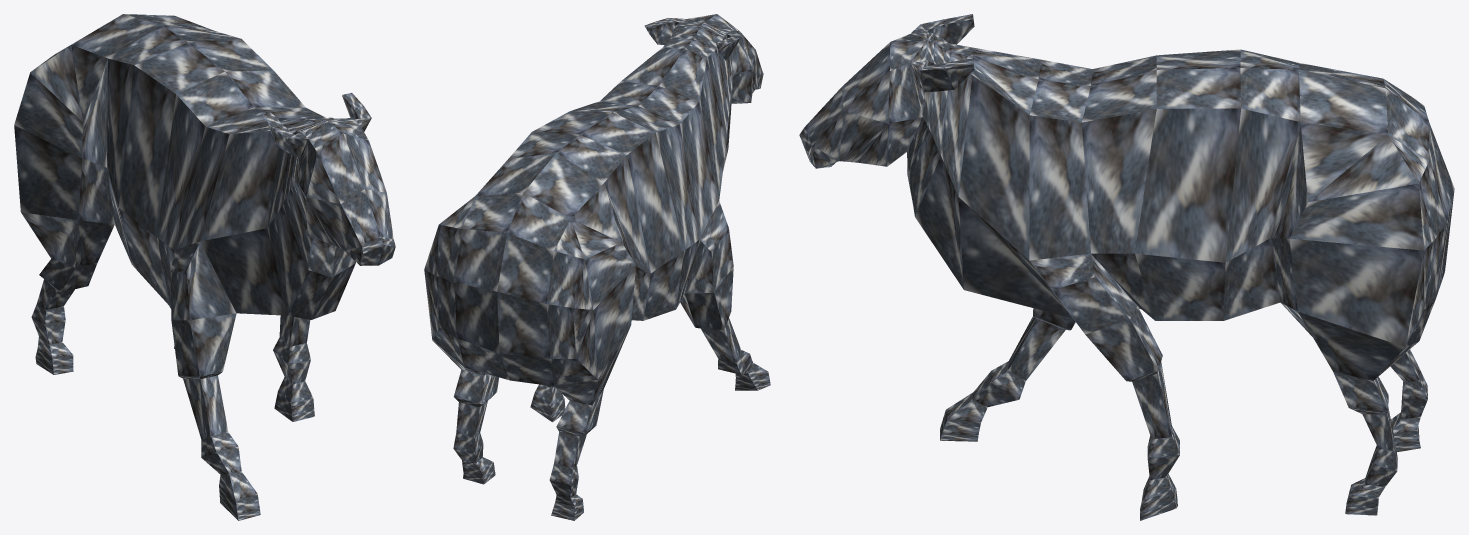
Rendered from SheepIdle_000019.obj.
The picture shows the model from 3 angles, left to right: view 1: azimuth 30°, elevation 25°; view 2: azimuth 150°, elevation 25°; view 3: azimuth 270°, elevation 25°; orthographic projection. The views are drawn at different scales.
Parts seen in each view (by area): view 1: Sheep_Cylinder; view 2: Sheep_Cylinder; view 3: Sheep_Cylinder.
Part boxes in pixels (box(x1,y1,x2,y2)): Sheep_Cylinder: box(14, 14, 395, 520); Sheep_Cylinder: box(424, 14, 770, 520); Sheep_Cylinder: box(799, 14, 1454, 520).
Bounding box in the file's own units: 2.22 × 4.4 × 5.92.
